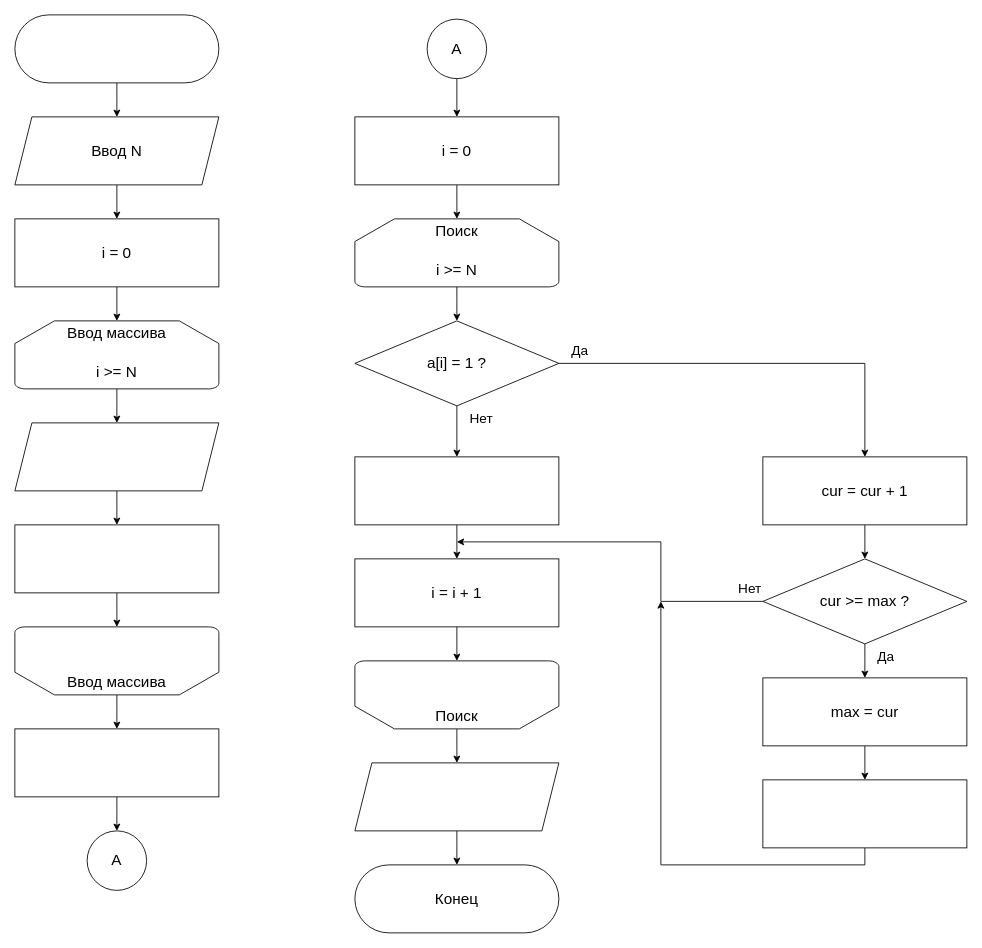
The diagram is 982 pixels wide and 948 high, and some of its shapes have lost their labels. The centre of each missing label's shape, as x and y in pixels:
"cur = 0" belongs at (x=456, y=490).
"cur = 0 max = 0 index = 0" belongs at (x=116, y=762).
"i = i +1" belongs at (x=116, y=558).
"index = i + 1 - max" belongs at (x=864, y=813).
"Ввод a[i]" belongs at (x=116, y=456).
"Вывод index, max" belongs at (x=456, y=796).
"Начало" belongs at (x=116, y=48).
